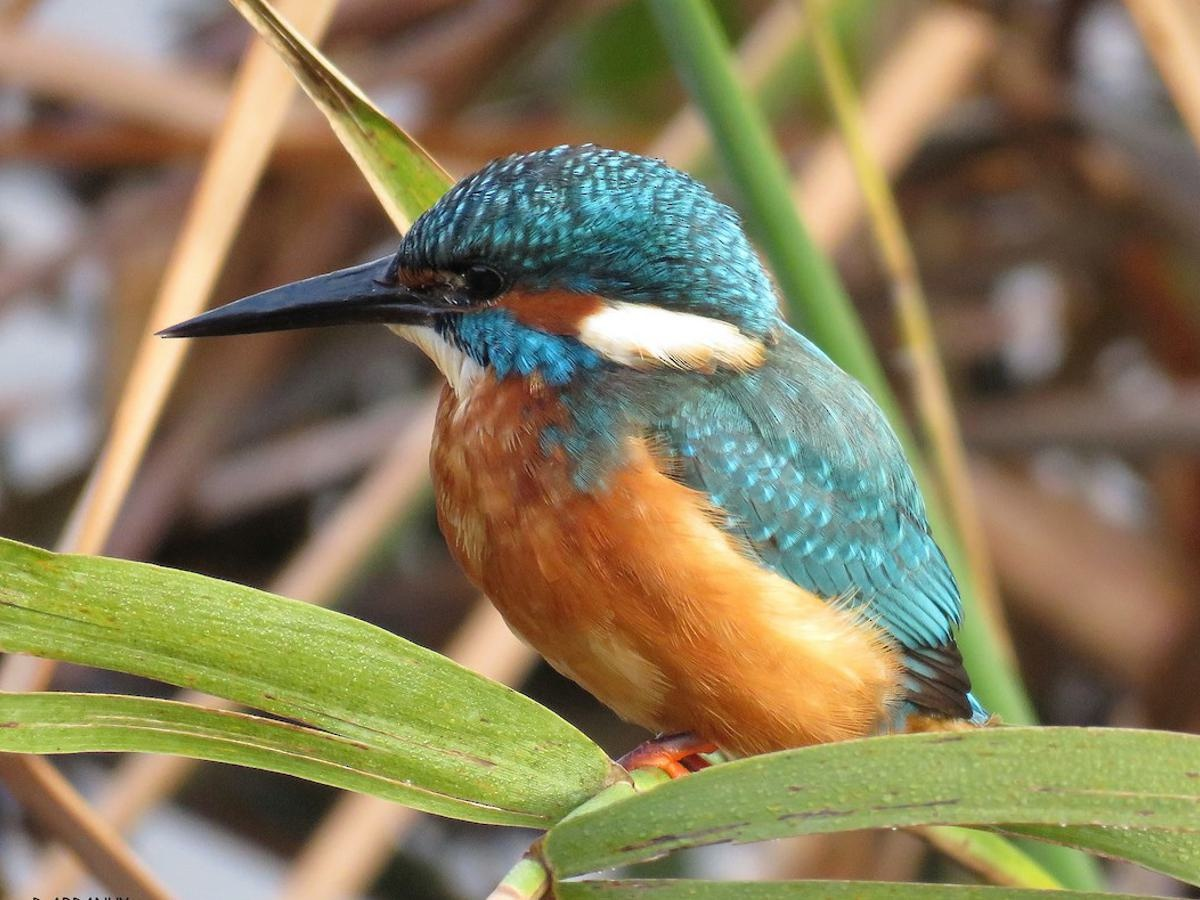kingfisher: (194, 139, 991, 780)
